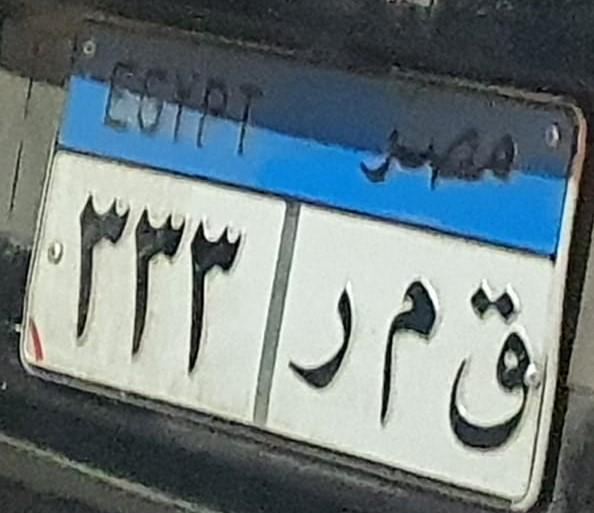3: (187, 215, 245, 381), (69, 185, 127, 346), (131, 204, 186, 362)
meem: (377, 272, 440, 436)
qaaf: (450, 276, 534, 457)
raa: (282, 283, 357, 401)
